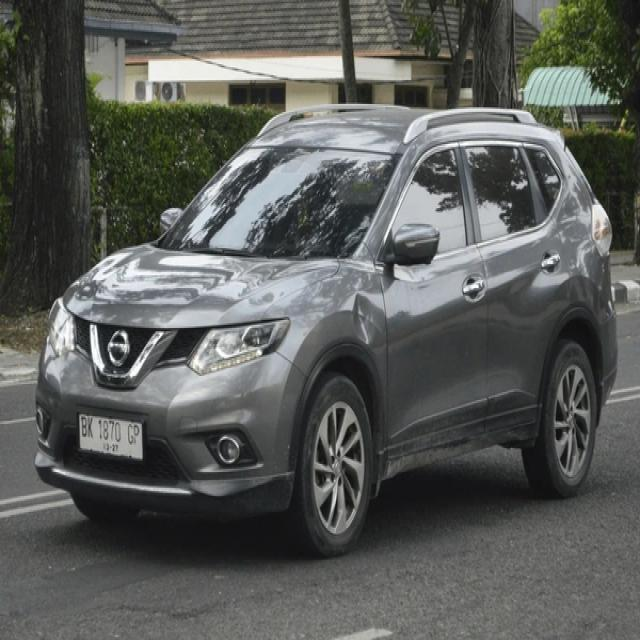nissan: (100, 325, 138, 382)
